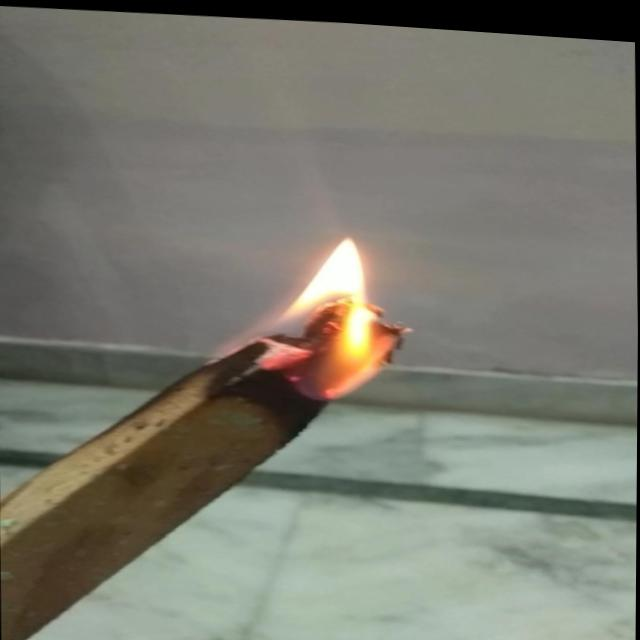fire: (222, 210, 446, 400)
